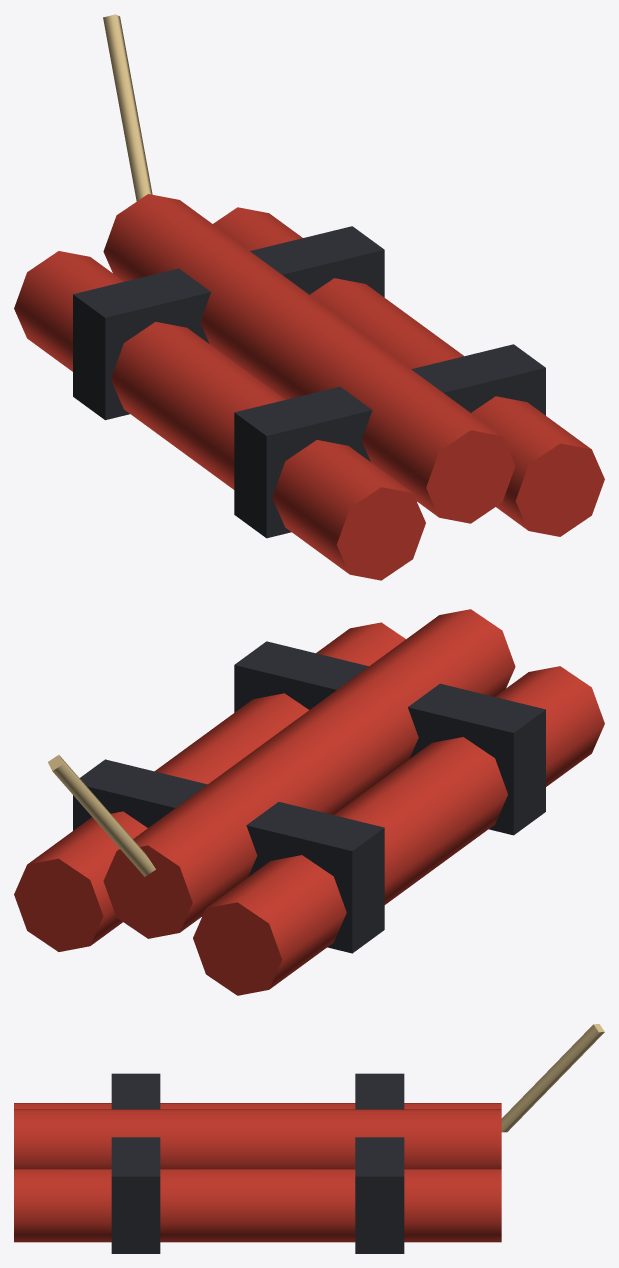
The model's file is tool_dynamite.glb.
3 views of the same model, one above another, from view 1: azimuth 30°, elevation 25°; view 2: azimuth 150°, elevation 25°; view 3: azimuth 270°, elevation 25° (orthographic). The views are drawn at different scales.
Visible parts, largest first — view 1: _MeshInstance3D_1258, _MeshInstance3D_1257, _MeshInstance3D_1259, _MeshInstance3D_1261, _MeshInstance3D_1260, _MeshInstance3D_1262; view 2: _MeshInstance3D_1258, _MeshInstance3D_1257, _MeshInstance3D_1259, _MeshInstance3D_1261, _MeshInstance3D_1260, _MeshInstance3D_1262; view 3: _MeshInstance3D_1259, _MeshInstance3D_1258, _MeshInstance3D_1260, _MeshInstance3D_1261, _MeshInstance3D_1257, _MeshInstance3D_1262.
Boxes of the visible parts, x1,y1,x2,y2 form: _MeshInstance3D_1258: (103,194,515,523); _MeshInstance3D_1257: (14,251,425,580); _MeshInstance3D_1259: (213,207,604,536); _MeshInstance3D_1261: (234,344,545,538); _MeshInstance3D_1260: (73,226,384,420); _MeshInstance3D_1262: (103,14,152,201); _MeshInstance3D_1258: (103,609,515,938); _MeshInstance3D_1257: (193,666,604,995); _MeshInstance3D_1259: (14,622,405,951); _MeshInstance3D_1261: (234,641,545,835); _MeshInstance3D_1260: (73,759,384,953); _MeshInstance3D_1262: (48,755,155,876); _MeshInstance3D_1259: (14,1169,501,1242); _MeshInstance3D_1258: (14,1109,501,1168); _MeshInstance3D_1260: (355,1073,404,1253); _MeshInstance3D_1261: (111,1073,160,1253); _MeshInstance3D_1257: (14,1103,501,1109); _MeshInstance3D_1262: (501,1024,604,1132).
Size of the model in its own units: 0.1 by 0.0879 by 0.2424.
